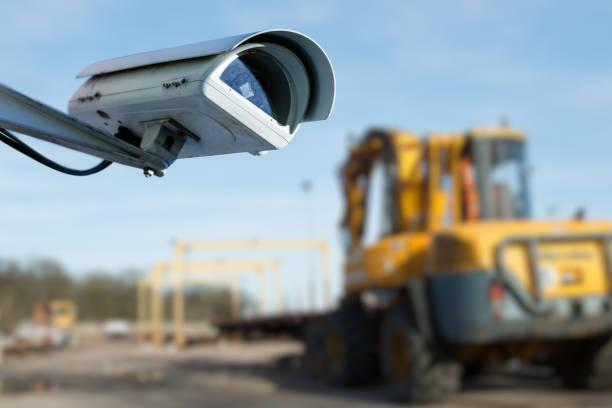camera: (24, 15, 325, 115)
